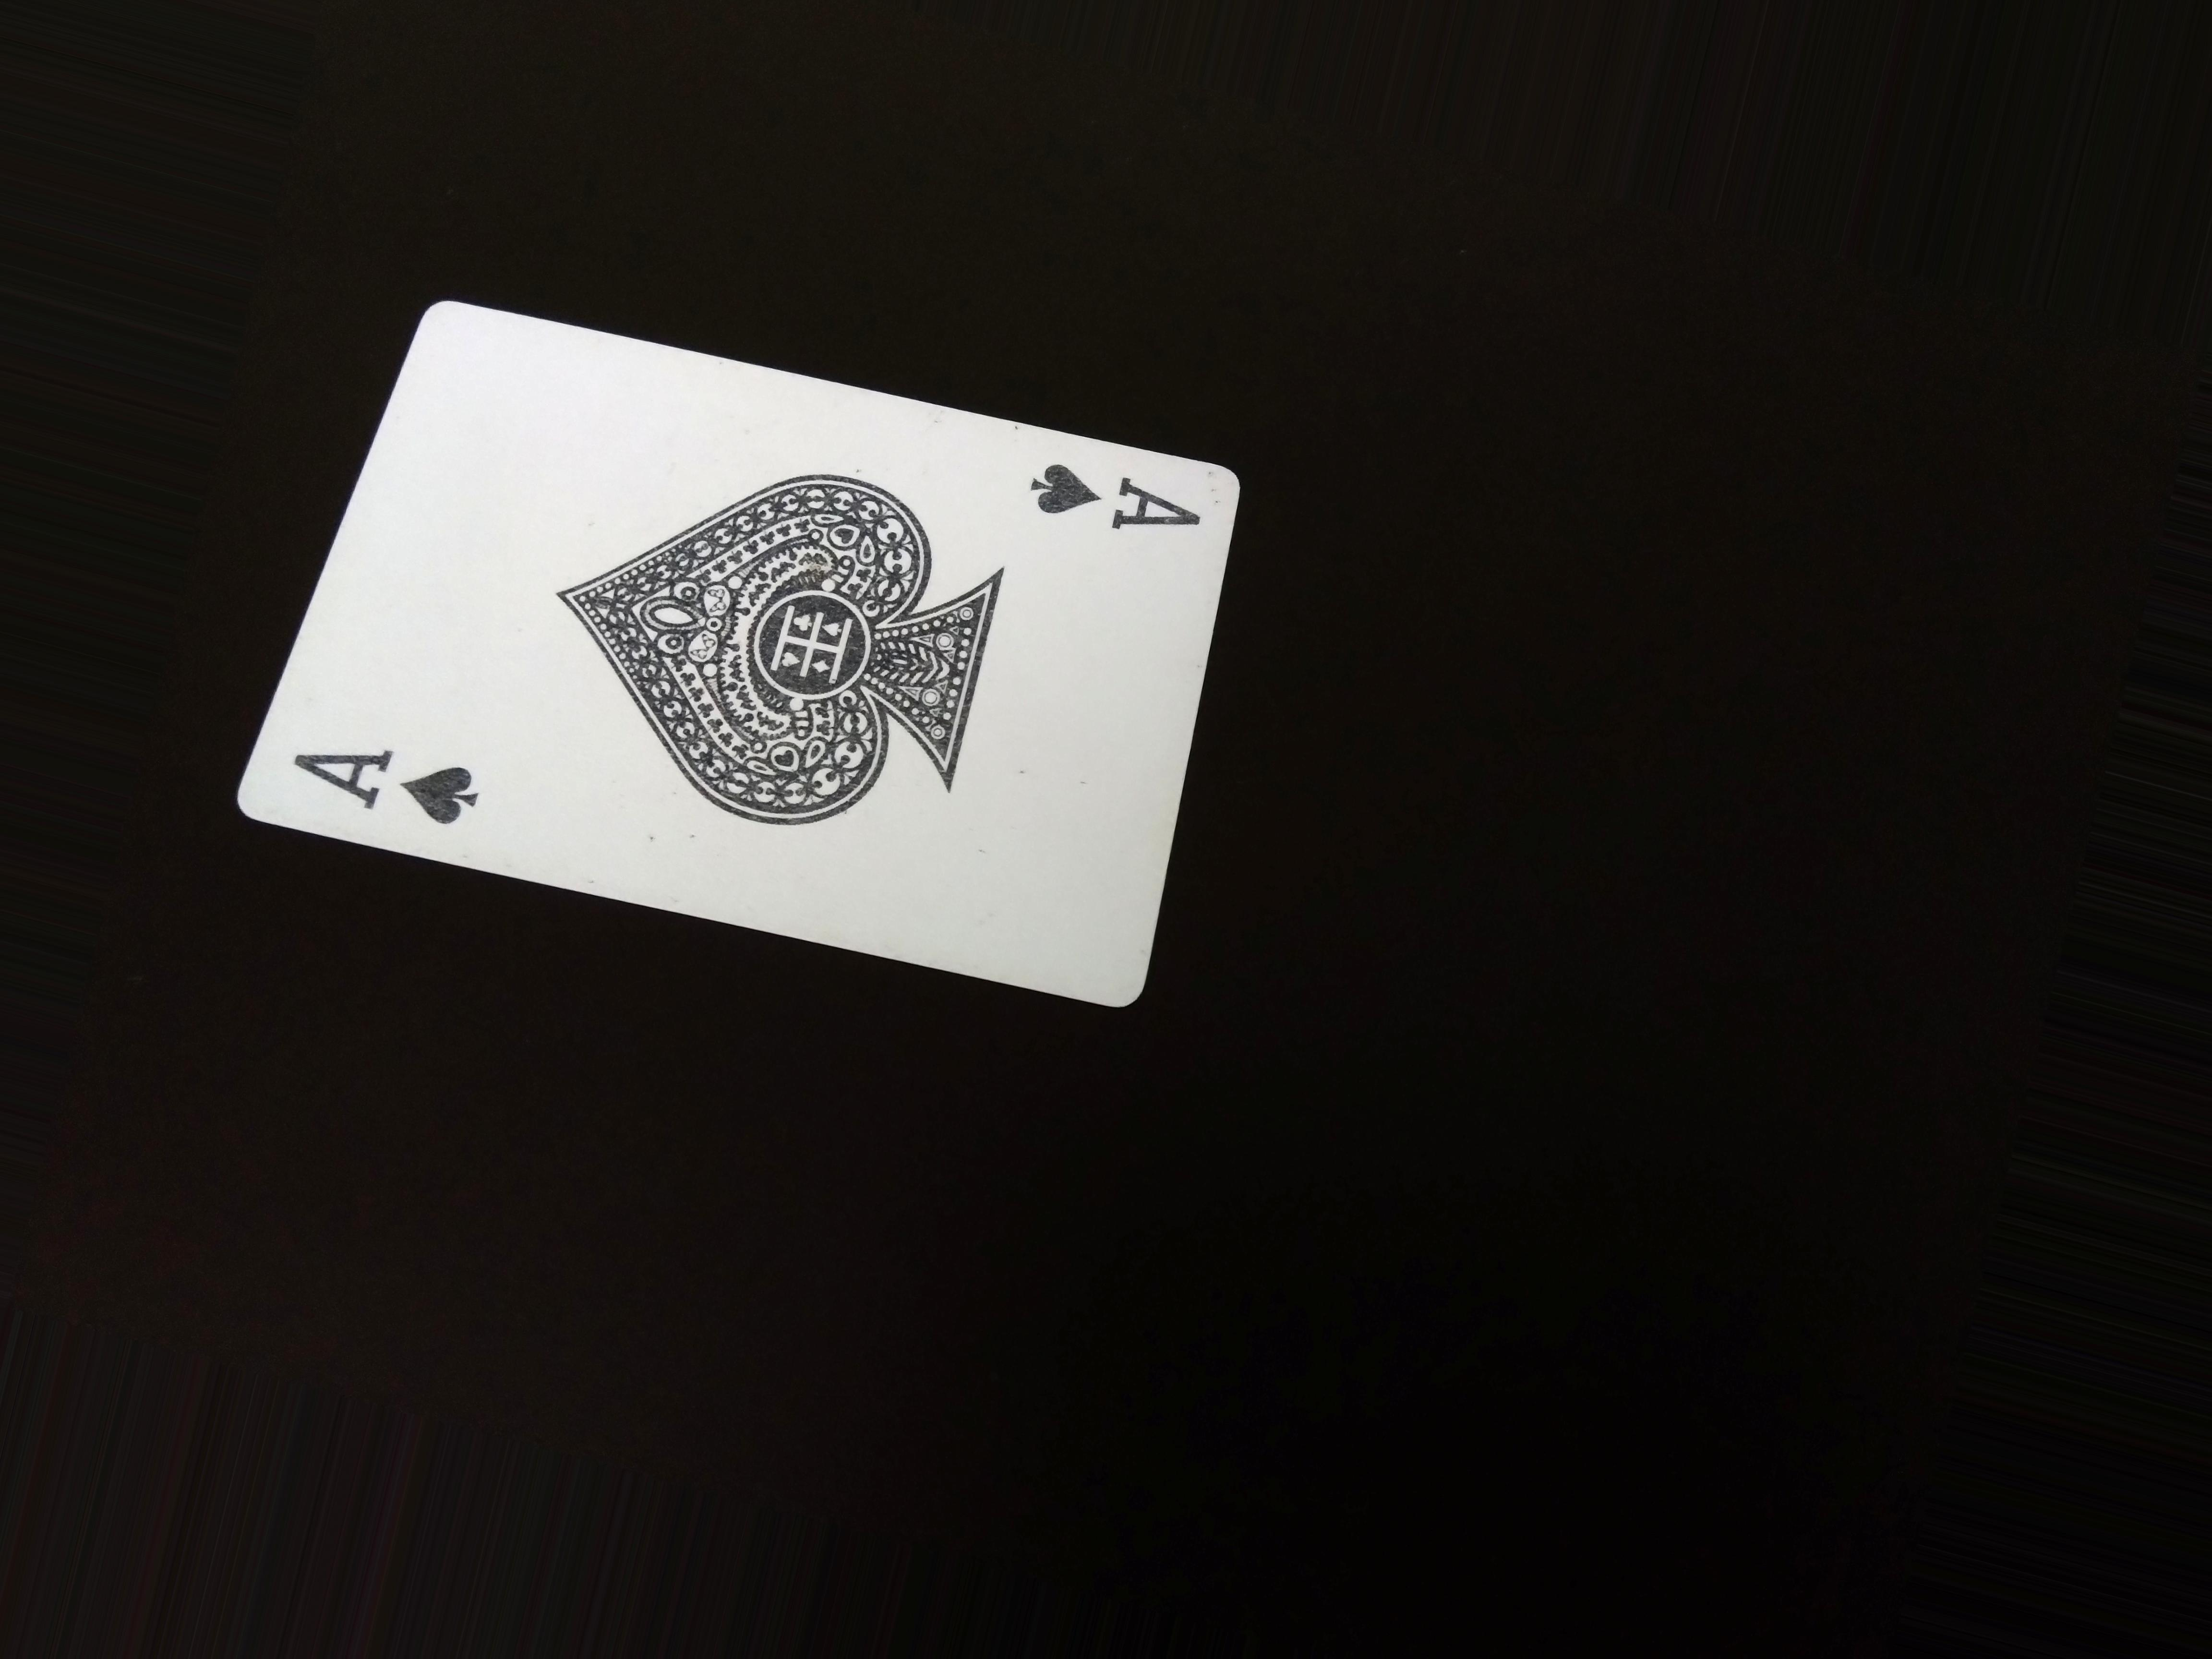AS: (282, 732, 500, 845)
